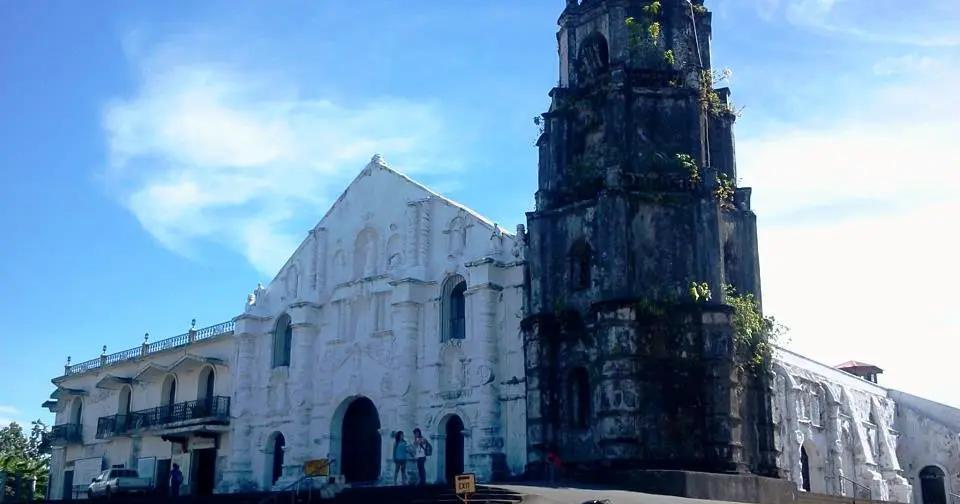daraga_church_daraga_albay: (229, 3, 773, 488)
vegetation_damage: (715, 284, 785, 376), (692, 63, 740, 132), (619, 13, 666, 50), (675, 150, 701, 189), (713, 170, 736, 209)
